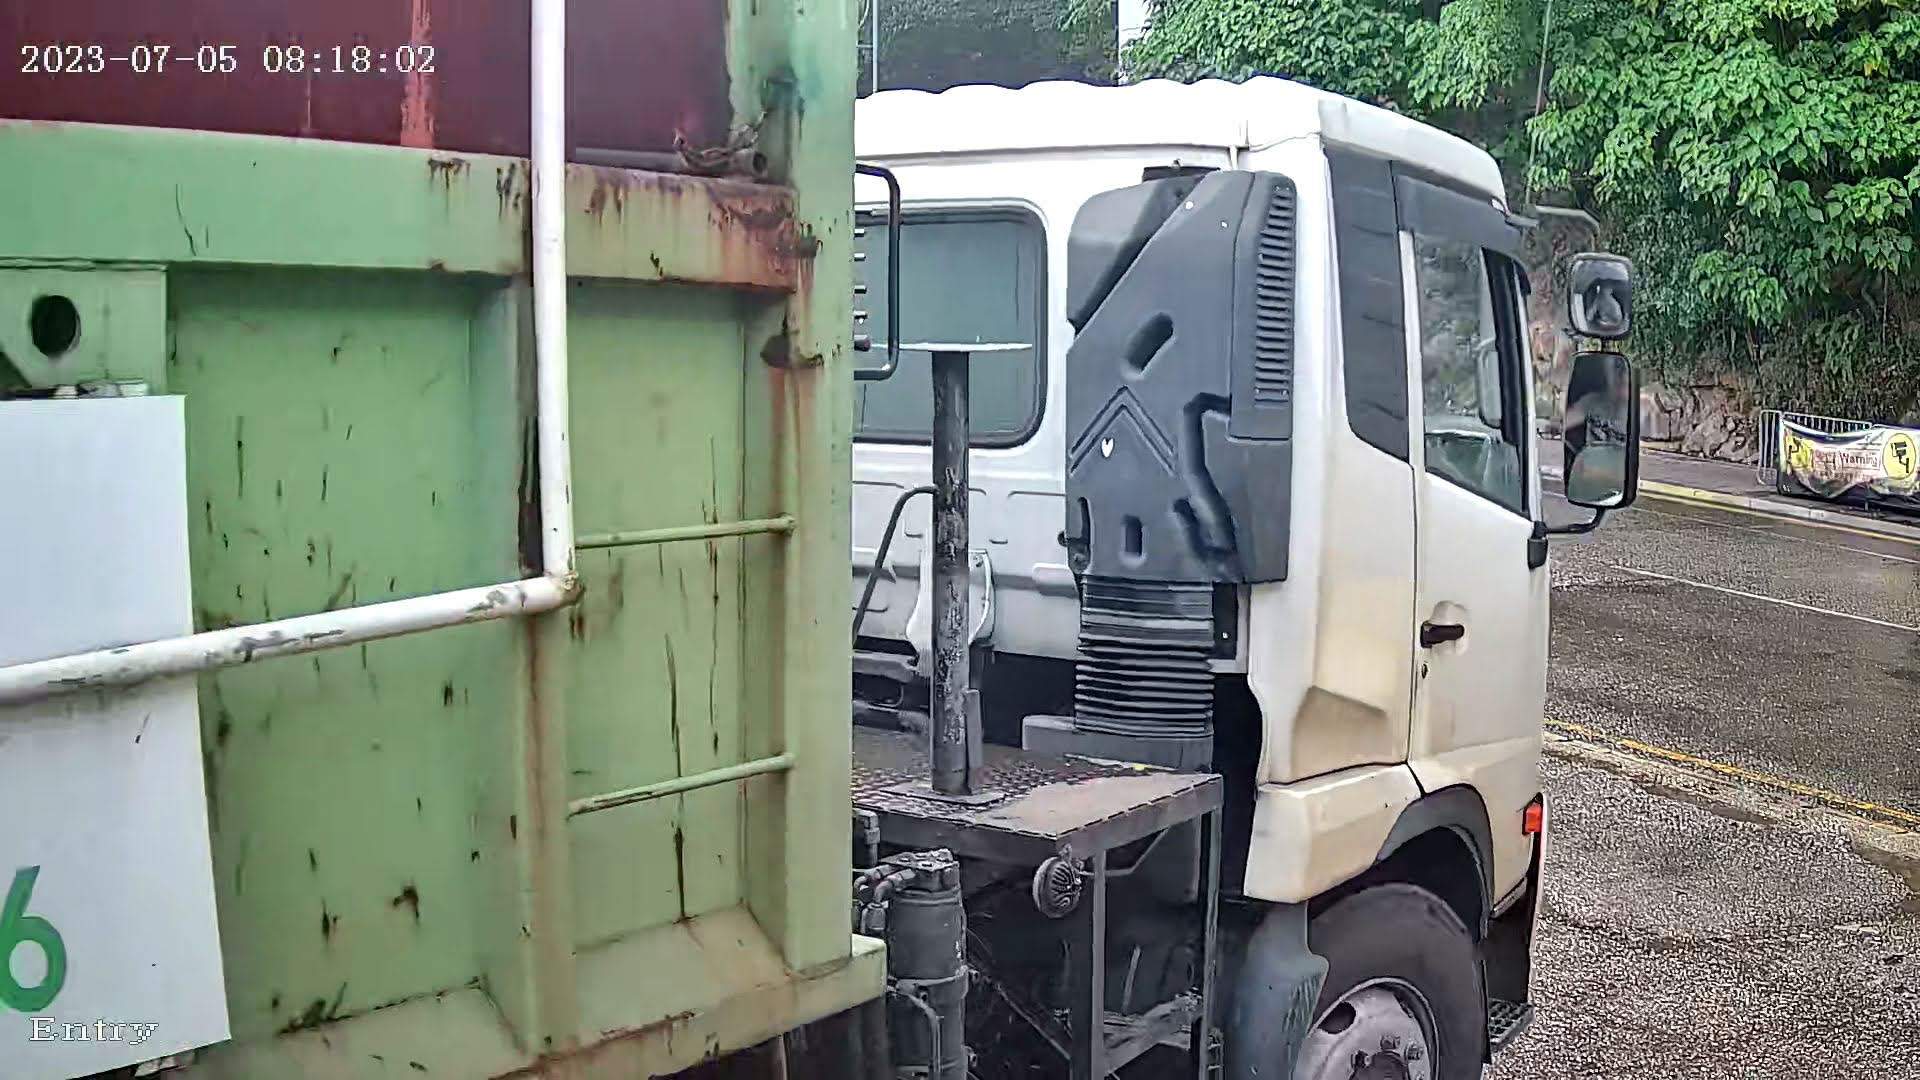truck: (1, 4, 1655, 1077)
